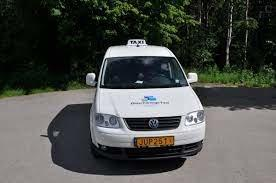license-plates: (136, 137, 174, 148)
